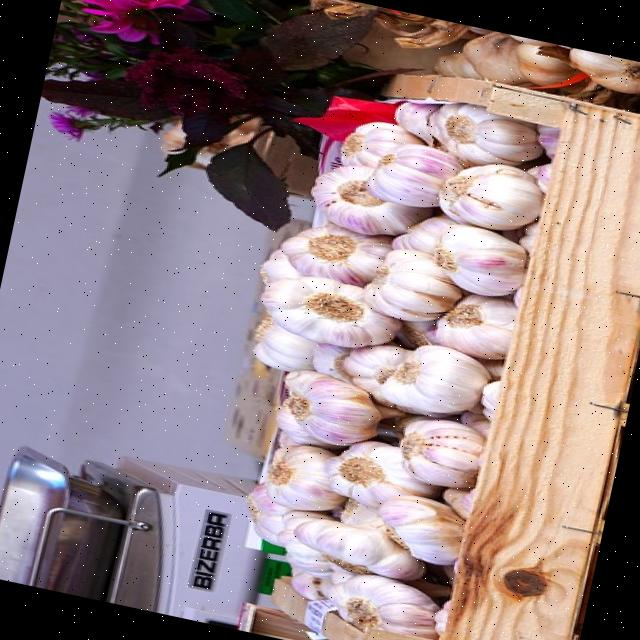garlic: (260, 276, 401, 347), (312, 164, 432, 235), (324, 439, 443, 507), (296, 518, 426, 579), (285, 369, 382, 445), (382, 344, 490, 412), (329, 573, 440, 638), (365, 248, 463, 321), (438, 163, 542, 228), (282, 223, 392, 284), (434, 223, 526, 295), (439, 102, 543, 164), (367, 142, 461, 206), (379, 494, 465, 563), (400, 421, 485, 486), (438, 293, 517, 358), (265, 445, 344, 509), (256, 315, 317, 371)
